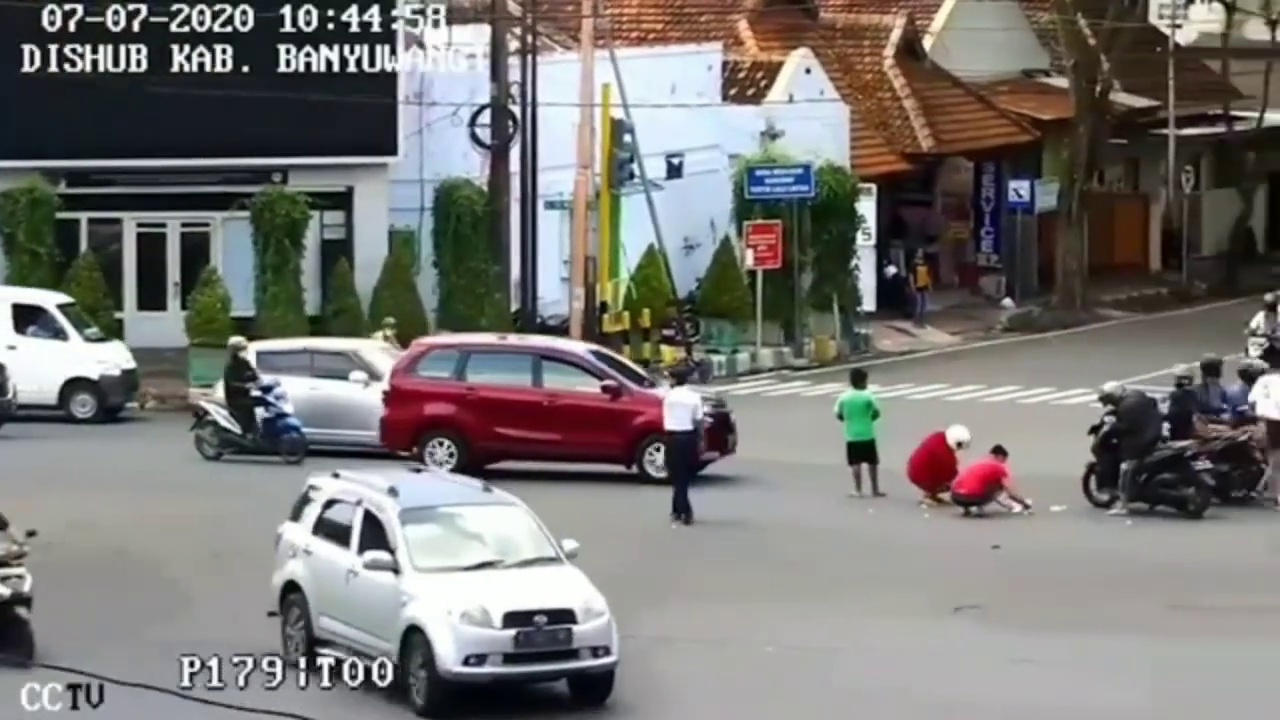car: (275, 469, 621, 711), (383, 330, 735, 495), (1, 282, 143, 421), (237, 335, 402, 451)
motorbike: (1081, 383, 1205, 521), (189, 331, 307, 471), (1246, 290, 1280, 369)
